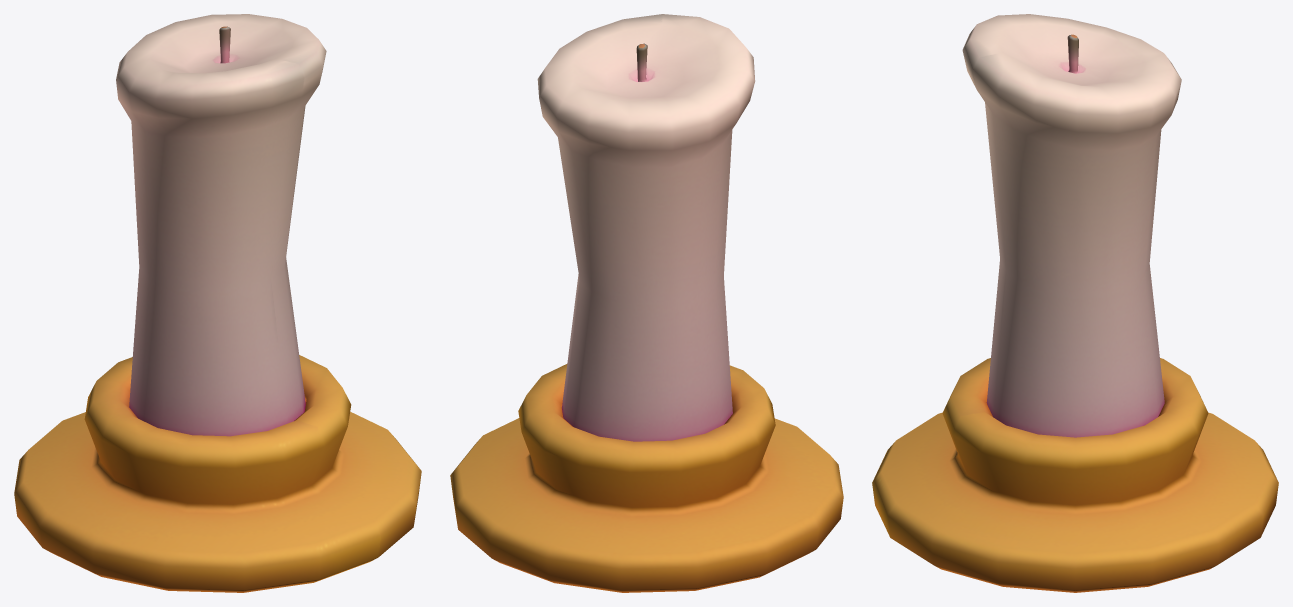
Rendered from Candle.fbx.
3 views of the same model, side by side, from view 1: azimuth 30°, elevation 25°; view 2: azimuth 150°, elevation 25°; view 3: azimuth 270°, elevation 25° (orthographic). The views are drawn at different scales.
Parts seen in each view (by area): view 1: Candle; view 2: Candle; view 3: Candle.
Boxes of the visible parts, left/top/right/bottom form: Candle: left=14, top=14, right=421, bottom=592; Candle: left=450, top=14, right=843, bottom=592; Candle: left=872, top=14, right=1278, bottom=592.
Bounding box in the file's own units: 16.94 × 22.06 × 16.94.
Materials: 1 (1 with a texture image).
